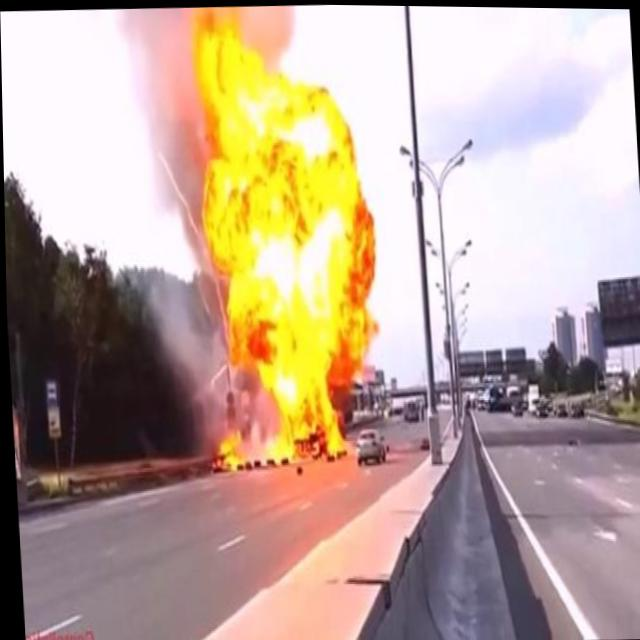fire: (164, 2, 386, 489)
